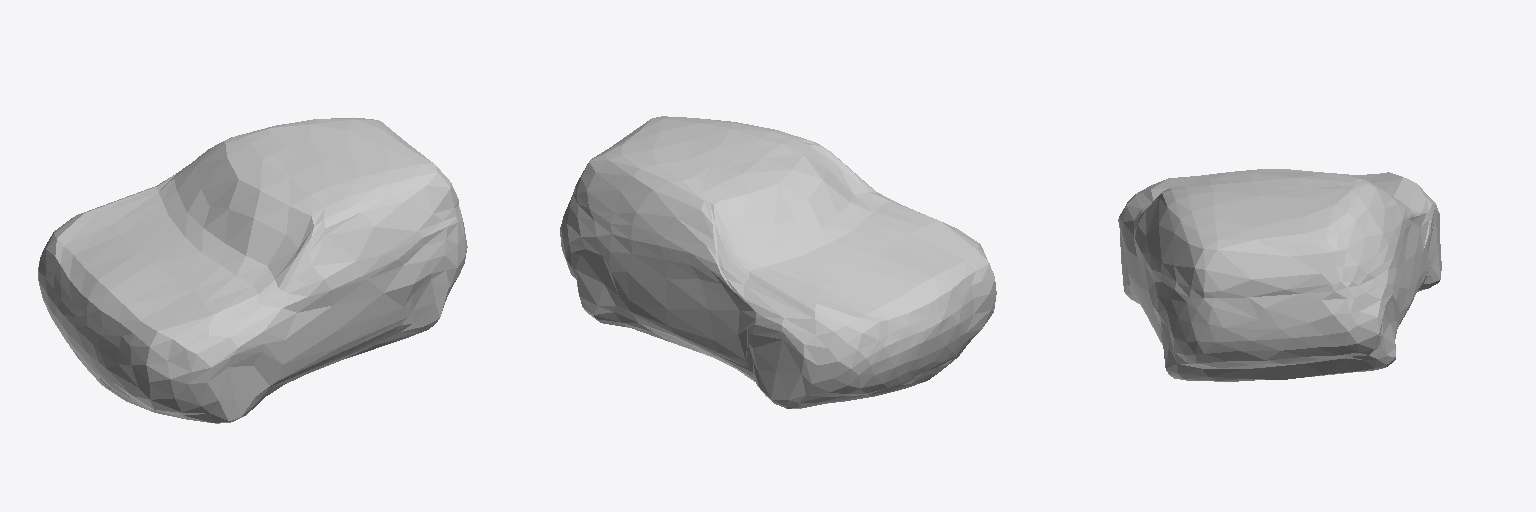
The model's file is video3_404.obj.
3 renders of one model, left to right at view 1: azimuth 30°, elevation 25°; view 2: azimuth 150°, elevation 25°; view 3: azimuth 270°, elevation 25°, orthographic.
Bounding box in the file's own units: 1 × 0.4936 × 0.7919.